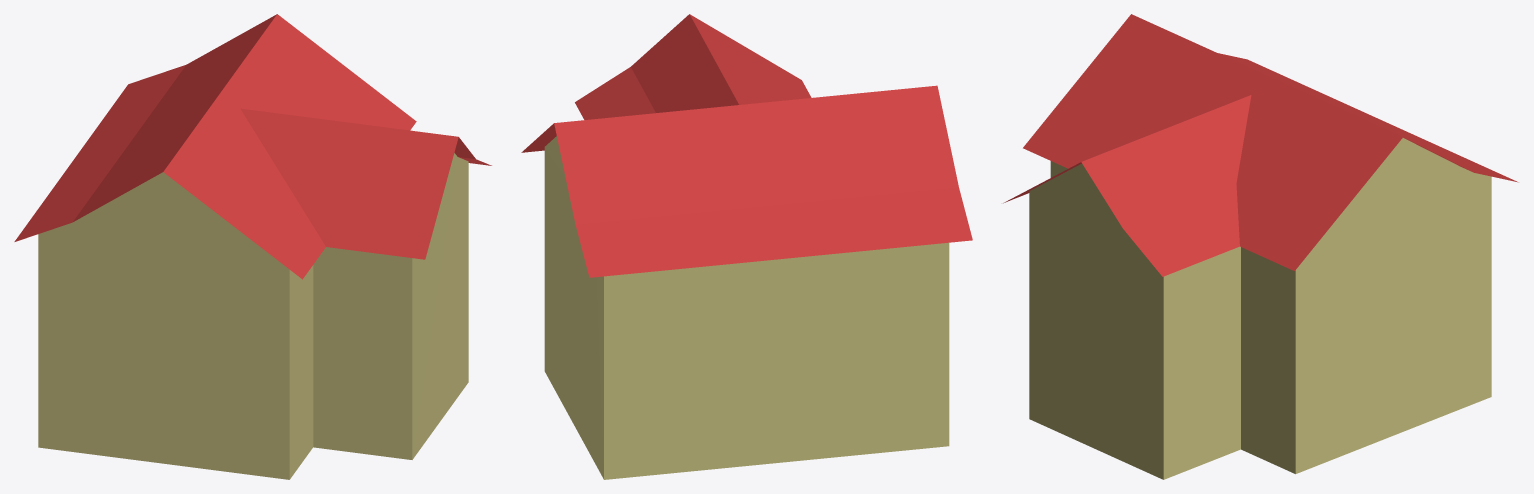
The picture shows the model from 3 angles, left to right: view 1: azimuth 30°, elevation 25°; view 2: azimuth 150°, elevation 25°; view 3: azimuth 270°, elevation 25°; orthographic projection.
Bounding box in the file's own units: 19.5 × 19.62 × 12.79.
